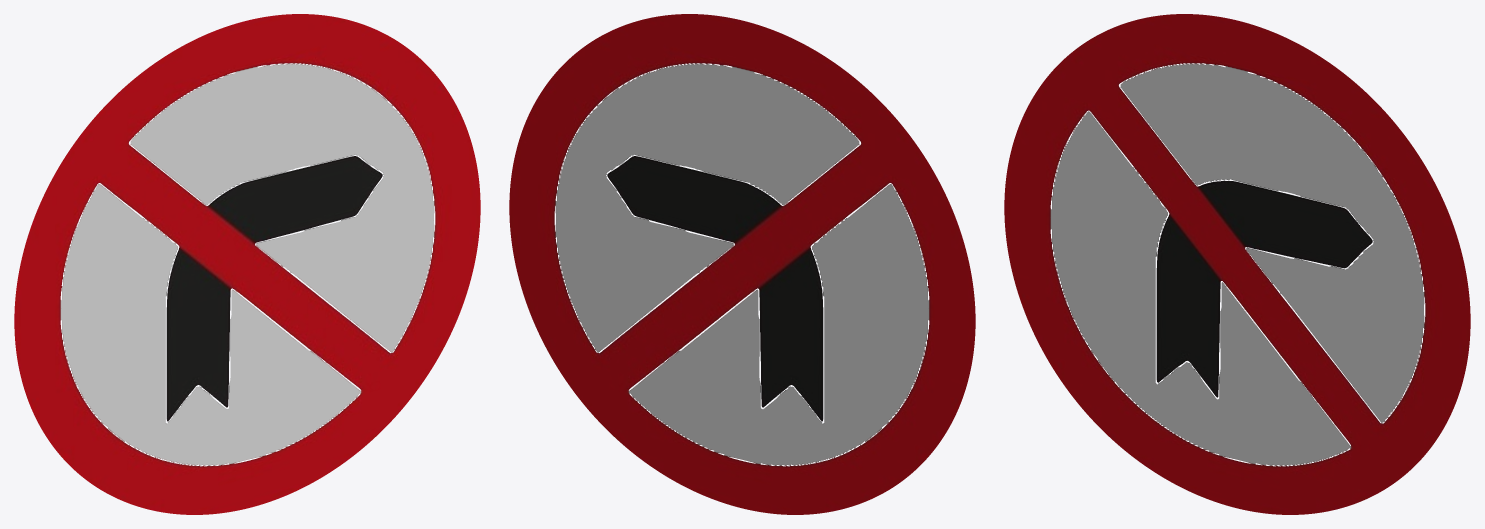
Rendered from saga-donulmez.dae.
The picture shows the model from 3 angles, left to right: view 1: azimuth 30°, elevation 25°; view 2: azimuth 150°, elevation 25°; view 3: azimuth 330°, elevation 25°; orthographic projection.
Parts seen in each view (by area): view 1: Circle; view 2: Circle; view 3: Circle.
Boxes of the visible parts, x1,y1,x2,y2 form: Circle: (14,14,480,514); Circle: (509,14,975,514); Circle: (1004,14,1470,514).
Size of the model in its own units: 0.24 by 1.05e-08 by 0.24.
Materials: 1 (1 with a texture image).
